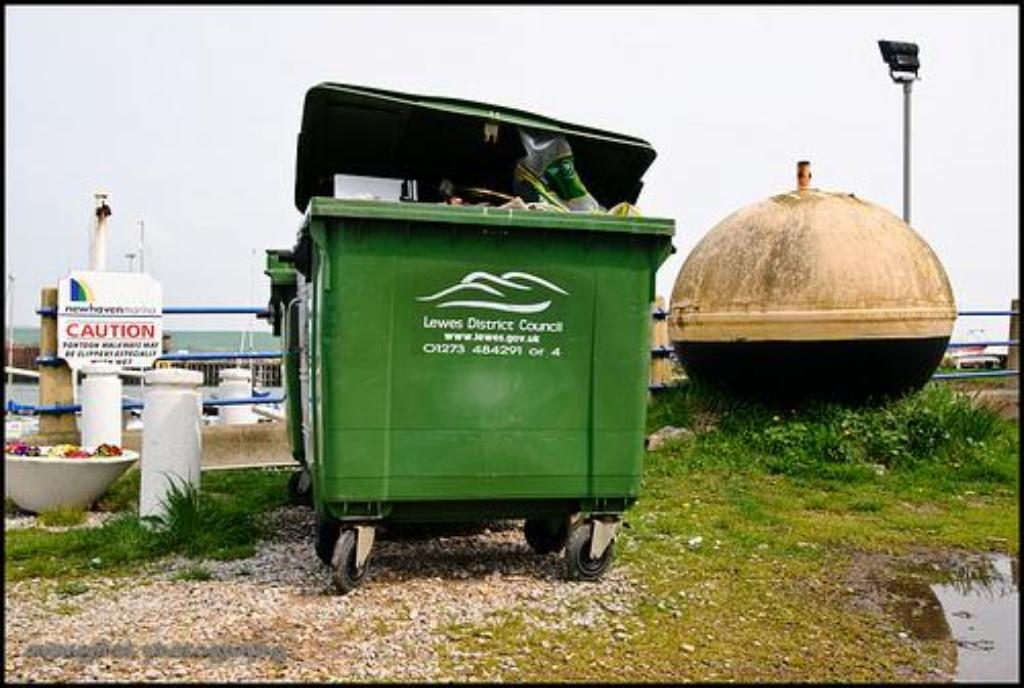dustbin: (284, 71, 695, 615)
